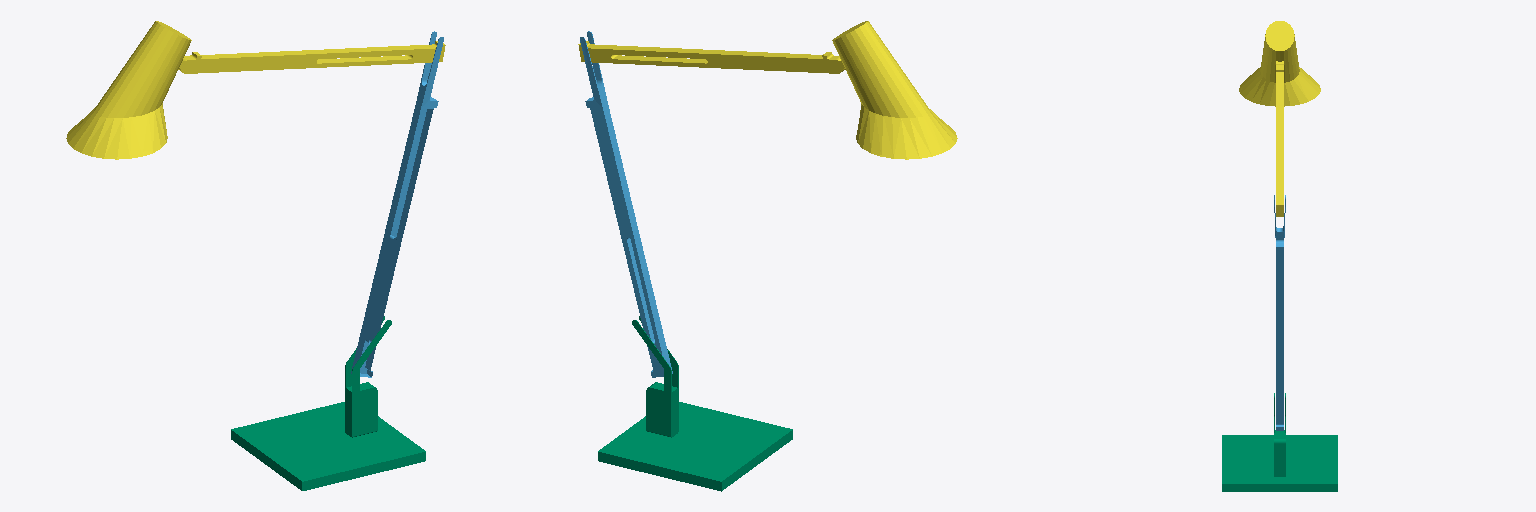
URDF robot description (partnet_1e9a36b3360f23388962005ce0e986db):
<?xml version="1.0" ?>
<robot name="partnet_1e9a36b3360f23388962005ce0e986db">
	<link name="base"/>
	<link name="link_0">
		<visual name="lamp_arm_straight_bar-15">
			<origin xyz="0.00012618158852113206 0.5045340047940331 0.2960457332331541"/>
			<geometry>
				<mesh filename="textured_objs/original-7.obj"/>
			</geometry>
		</visual>
		<visual name="lamp_arm_straight_bar-15">
			<origin xyz="0.00012618158852113206 0.5045340047940331 0.2960457332331541"/>
			<geometry>
				<mesh filename="textured_objs/original-6.obj"/>
			</geometry>
		</visual>
		<collision>
			<origin xyz="0.00012618158852113206 0.5045340047940331 0.2960457332331541"/>
			<geometry>
				<mesh filename="textured_objs/original-7.obj"/>
			</geometry>
		</collision>
		<collision>
			<origin xyz="0.00012618158852113206 0.5045340047940331 0.2960457332331541"/>
			<geometry>
				<mesh filename="textured_objs/original-6.obj"/>
			</geometry>
		</collision>
	</link>
	<joint name="joint_0" type="revolute">
		<origin xyz="-0.00012618158852113206 -0.5045340047940331 -0.2960457332331541"/>
		<axis xyz="-0.9999999687261597 0.0002500953410302977 0"/>
		<child link="link_0"/>
		<parent link="link_1"/>
		<limit lower="-0.6974335690969338" upper="0.6974335690969341"/>
	</joint>
	<link name="link_1">
		<visual name="lamp_base_part-18">
			<origin xyz="0 0 0"/>
			<geometry>
				<mesh filename="textured_objs/original-4.obj"/>
			</geometry>
		</visual>
		<visual name="lamp_arm_curved_bar-16">
			<origin xyz="0 0 0"/>
			<geometry>
				<mesh filename="textured_objs/original-8.obj"/>
			</geometry>
		</visual>
		<collision>
			<origin xyz="0 0 0"/>
			<geometry>
				<mesh filename="textured_objs/original-4.obj"/>
			</geometry>
		</collision>
		<collision>
			<origin xyz="0 0 0"/>
			<geometry>
				<mesh filename="textured_objs/original-8.obj"/>
			</geometry>
		</collision>
	</link>
	<joint name="joint_1" type="fixed">
		<origin rpy="1.570796326794897 0 -1.570796326794897" xyz="0 0 0"/>
		<child link="link_1"/>
		<parent link="base"/>
	</joint>
	<link name="link_2">
		<visual name="lamp_shade-9">
			<origin xyz="-0.020858815740286828 -0.5589676681772568 0.5909557968569753"/>
			<geometry>
				<mesh filename="textured_objs/original-3.obj"/>
			</geometry>
		</visual>
		<visual name="lamp_shade-9">
			<origin xyz="-0.020858815740286828 -0.5589676681772568 0.5909557968569753"/>
			<geometry>
				<mesh filename="textured_objs/original-2.obj"/>
			</geometry>
		</visual>
		<visual name="lamp_arm_straight_bar-14">
			<origin xyz="-0.020858815740286828 -0.5589676681772568 0.5909557968569753"/>
			<geometry>
				<mesh filename="textured_objs/original-9.obj"/>
			</geometry>
		</visual>
		<collision>
			<origin xyz="-0.020858815740286828 -0.5589676681772568 0.5909557968569753"/>
			<geometry>
				<mesh filename="textured_objs/original-3.obj"/>
			</geometry>
		</collision>
		<collision>
			<origin xyz="-0.020858815740286828 -0.5589676681772568 0.5909557968569753"/>
			<geometry>
				<mesh filename="textured_objs/original-2.obj"/>
			</geometry>
		</collision>
		<collision>
			<origin xyz="-0.020858815740286828 -0.5589676681772568 0.5909557968569753"/>
			<geometry>
				<mesh filename="textured_objs/original-9.obj"/>
			</geometry>
		</collision>
	</link>
	<joint name="joint_2" type="revolute">
		<origin xyz="0.02098499732880796 1.0635016729712898 -0.2949100636238212"/>
		<axis xyz="0.9999999998687011 1.5923183783891676e-05 -3.008283561350552e-06"/>
		<child link="link_2"/>
		<parent link="link_0"/>
		<limit lower="-1.049291946298991" upper="0.48380526865282814"/>
	</joint>
</robot>

--- Render facts (derived) ---
The picture shows the robot from 3 angles, left to right: view 1: azimuth 30°, elevation 25°; view 2: azimuth 150°, elevation 25°; view 3: azimuth 270°, elevation 25°; orthographic projection.
Robot: partnet_1e9a36b3360f23388962005ce0e986db — 4 links, 3 joints (2 revolute, 1 fixed); root link base; default pose: every joint at zero.
Visible links, largest first — view 1: link_2, link_1, link_0; view 2: link_2, link_1, link_0; view 3: link_1, link_2, link_0.
Link boxes in pixels (x1,y1,x2,y2): link_2: (66,21,445,159); link_1: (231,316,425,490); link_0: (351,31,443,377); link_2: (578,21,957,159); link_1: (598,316,792,491); link_0: (580,31,672,377); link_1: (1222,393,1337,491); link_2: (1239,21,1320,216); link_0: (1274,195,1285,430).
Bounding box of the posed robot: 1.4 × 0.4693 × 1.7 m (x, y, z).
7 mesh visuals loaded from 7 distinct referenced files (7 OBJ).
